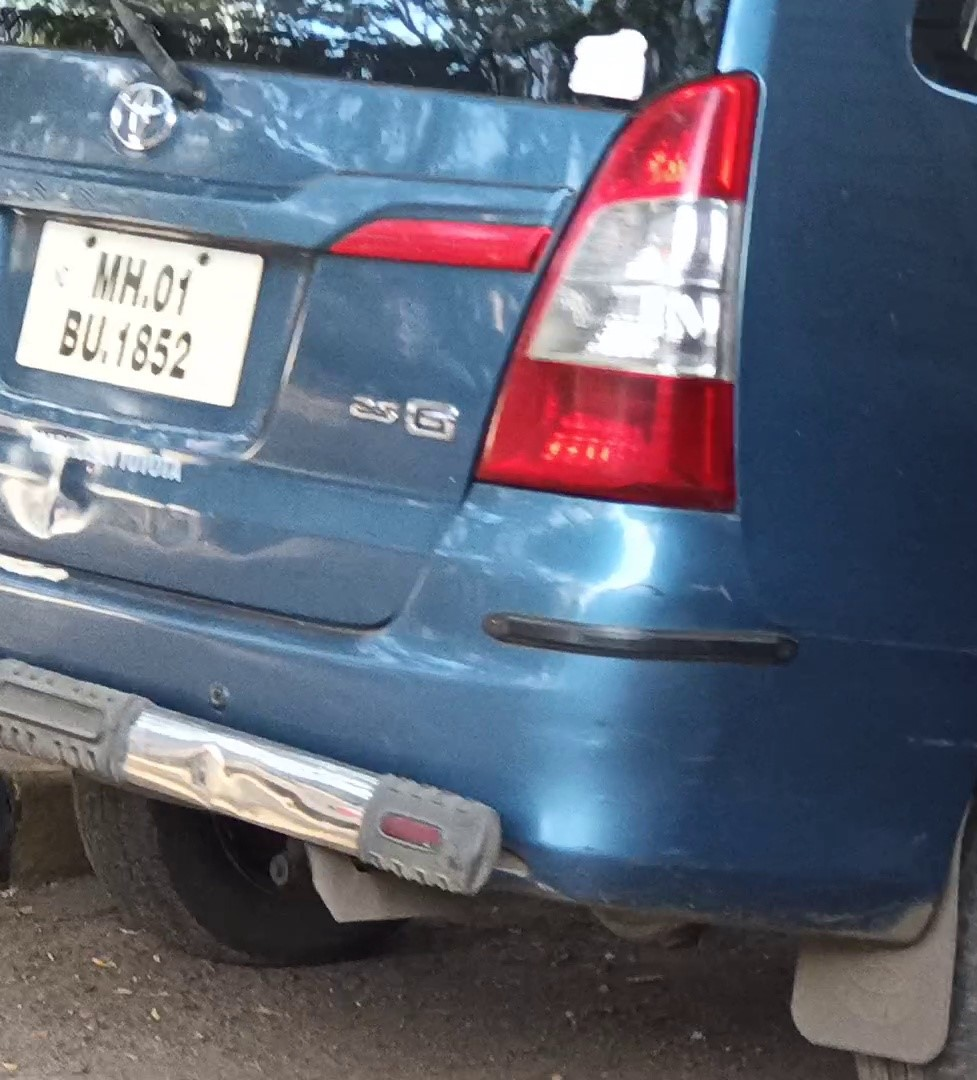MH01BU1852: (13, 217, 266, 404)
